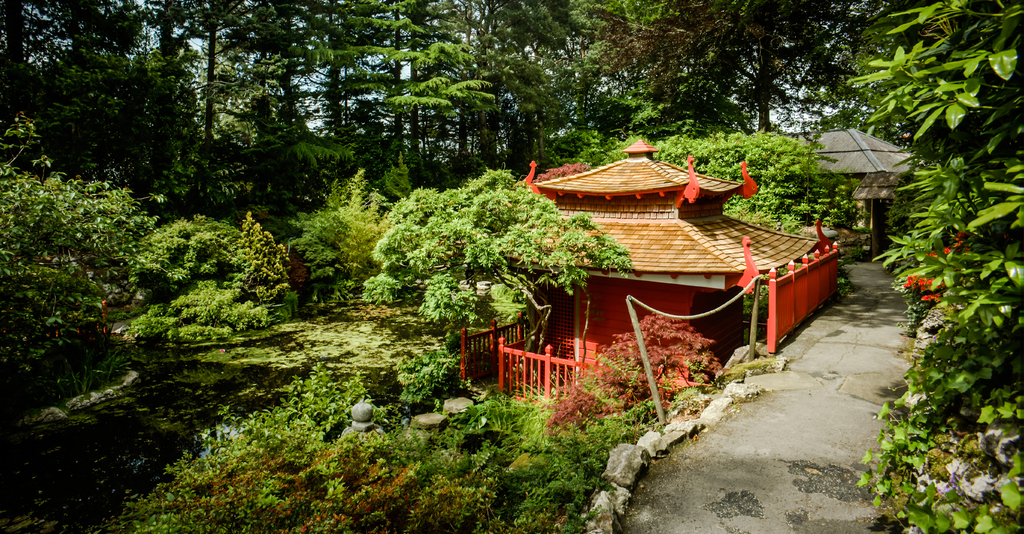Tree: (0, 0, 851, 533), (851, 0, 1023, 533)
